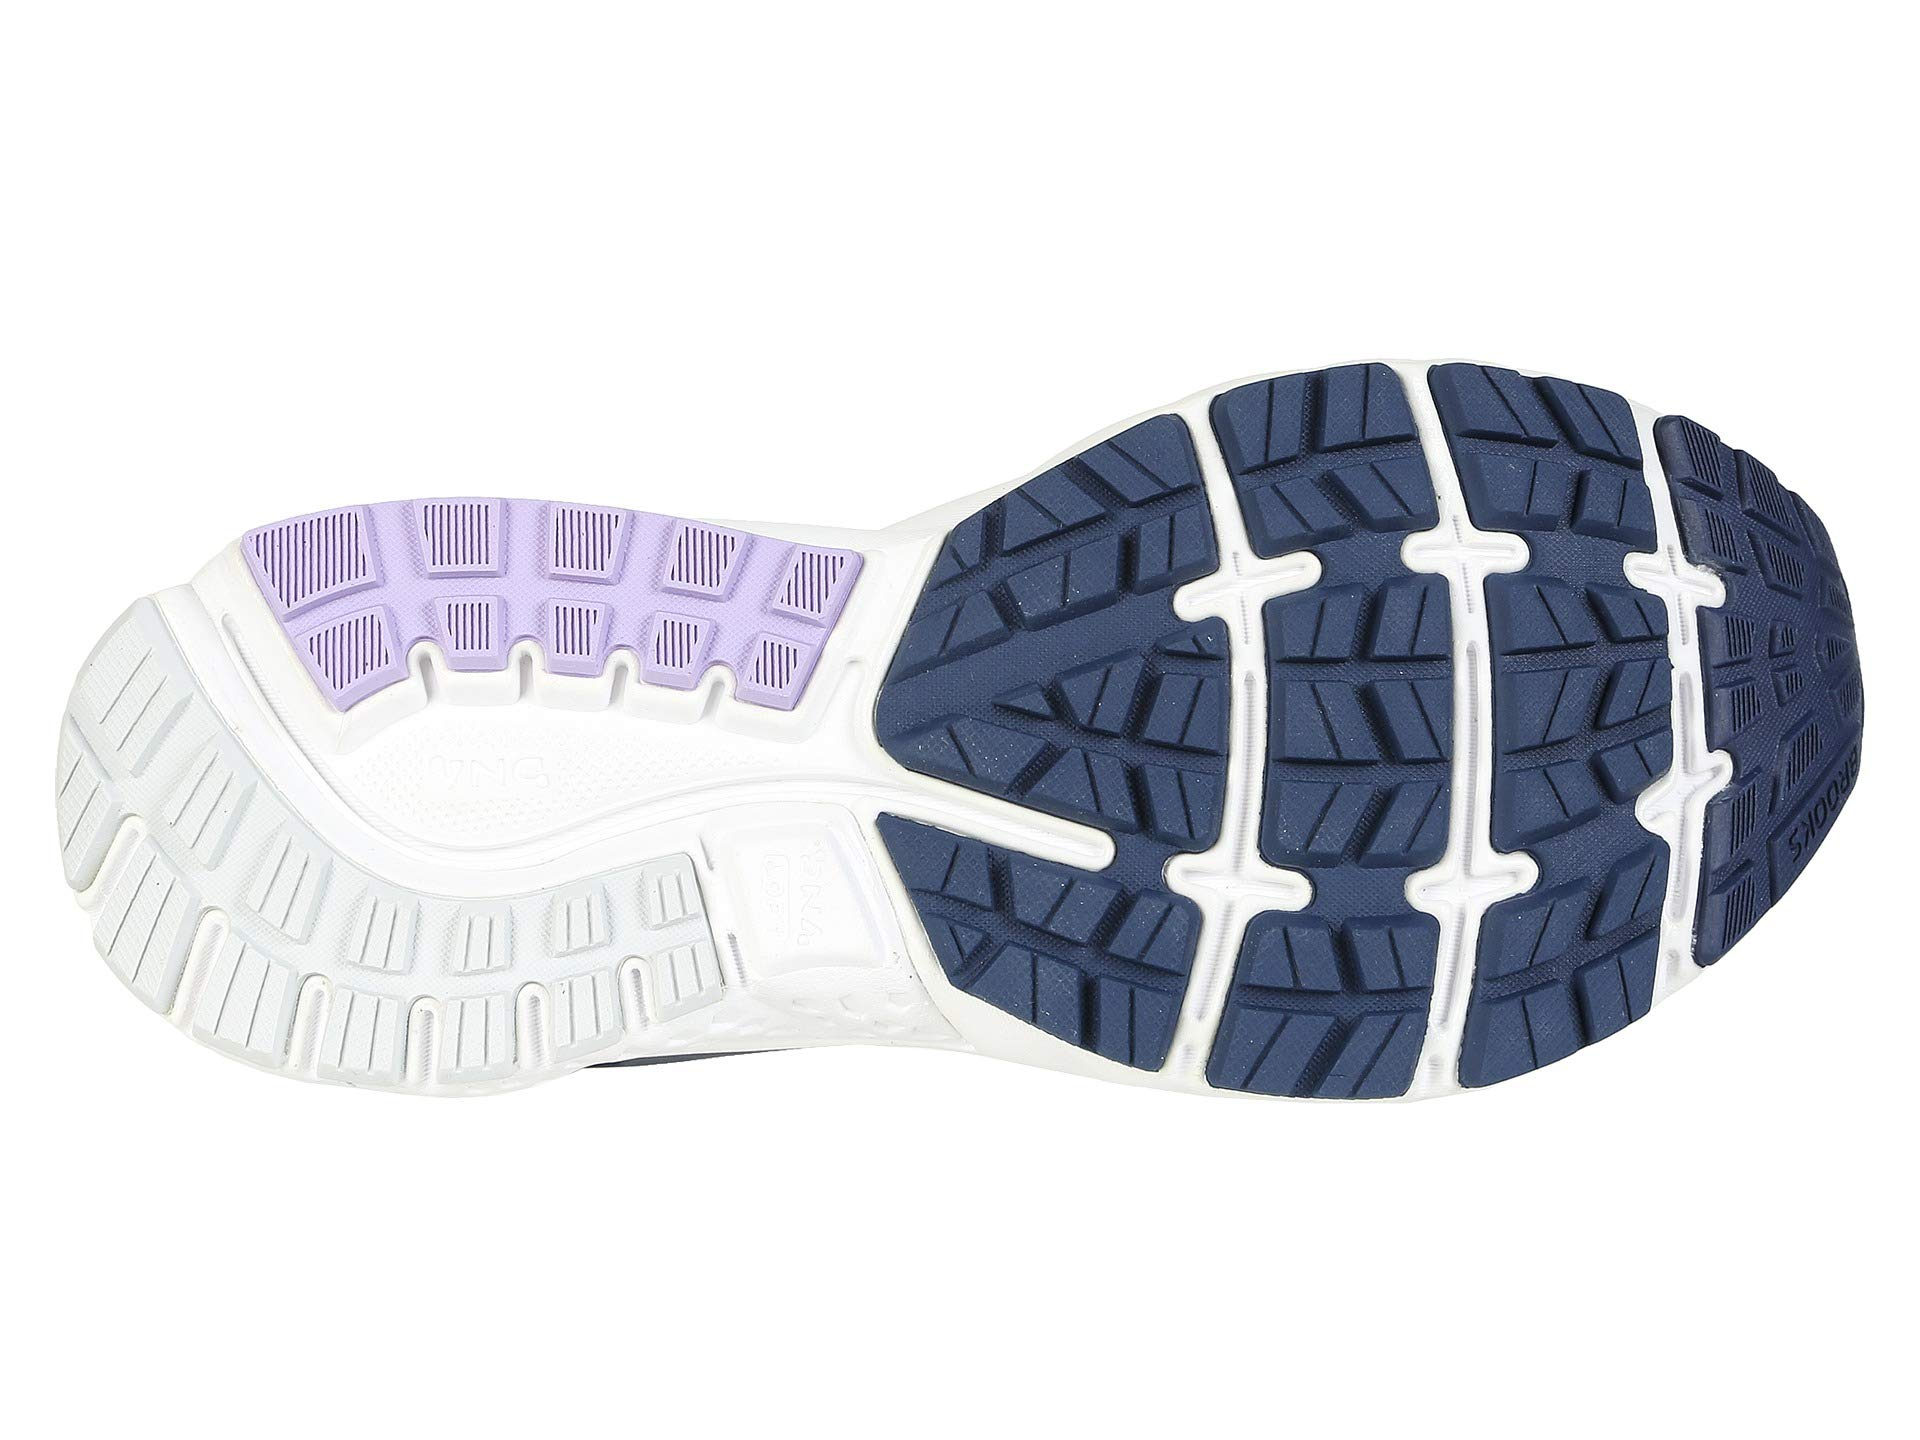line: (367, 472, 674, 865)
quad: (367, 472, 674, 865), (974, 625, 1176, 843)
triangle: (974, 625, 1176, 843)
